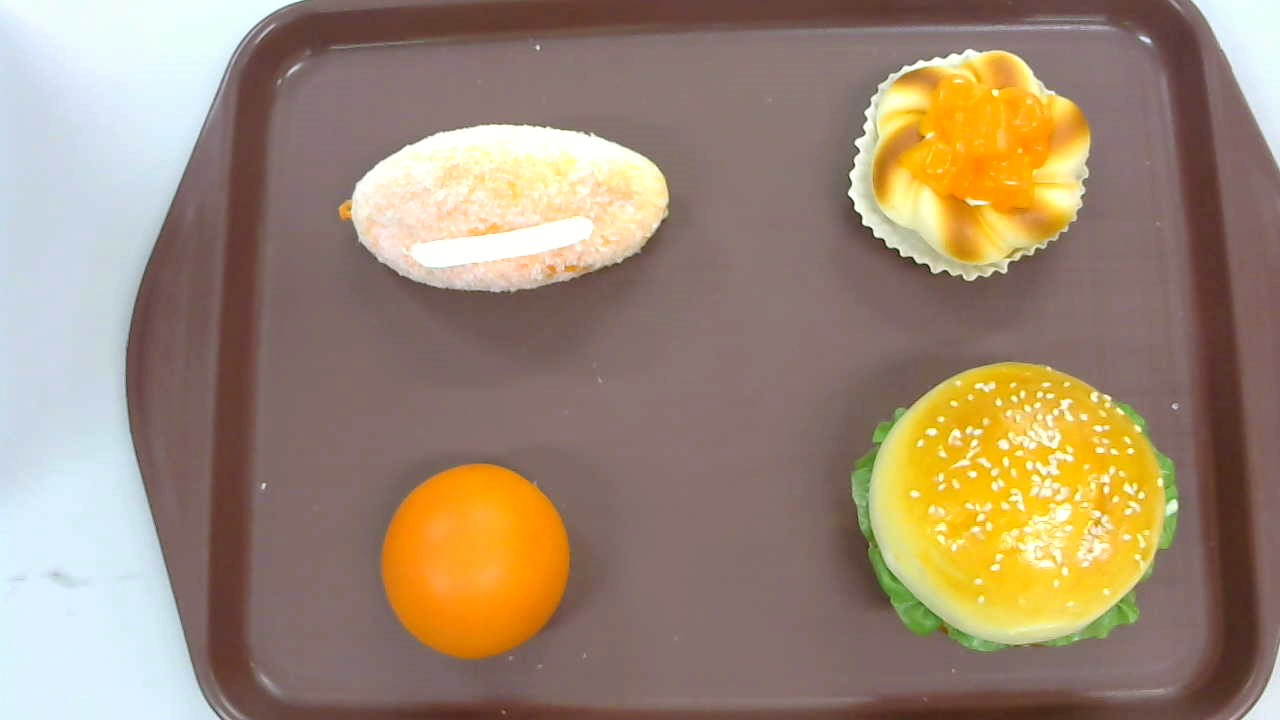bun: (380, 464, 571, 657)
coconut: (336, 123, 672, 294)
hamburger: (850, 360, 1178, 653)
mango tart: (847, 48, 1093, 282)
